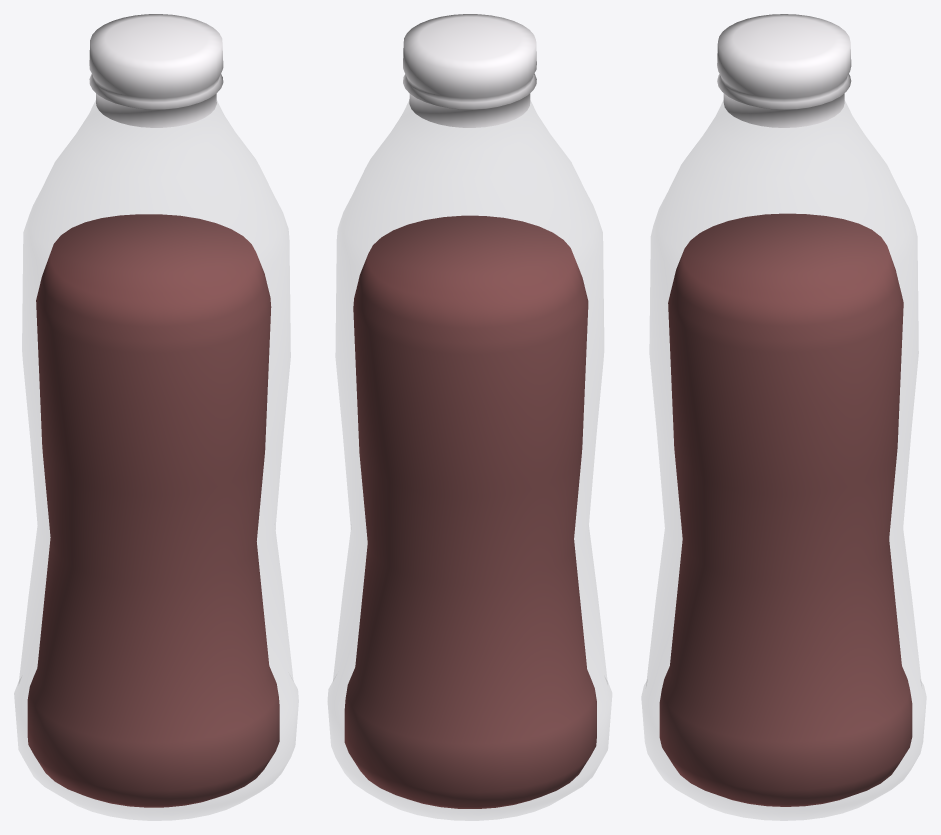
The model's file is StrawberryJuice.glb.
3 renders of one model, left to right at view 1: azimuth 30°, elevation 25°; view 2: azimuth 150°, elevation 25°; view 3: azimuth 270°, elevation 25°, orthographic.
Parts seen in each view (by area): view 1: Cylinder.002, Cylinder.001; view 2: Cylinder.002, Cylinder.001; view 3: Cylinder.002, Cylinder.001.
Part boxes in pixels (box(x1,y1,x2,y2)): Cylinder.002: box(14, 14, 298, 820); Cylinder.001: box(27, 214, 279, 807); Cylinder.002: box(328, 14, 611, 820); Cylinder.001: box(344, 215, 596, 808); Cylinder.002: box(642, 14, 925, 820); Cylinder.001: box(659, 213, 912, 806).
Size of the model in its own units: 1.23 by 3.59 by 1.23.
